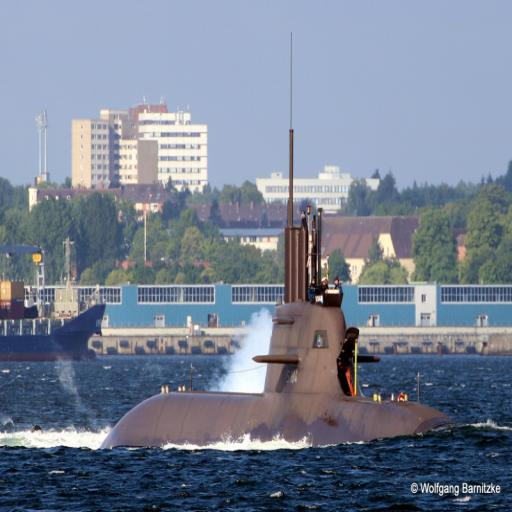submarine: (101, 10, 504, 450)
